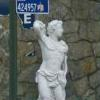Statue: (26, 7, 77, 100)
